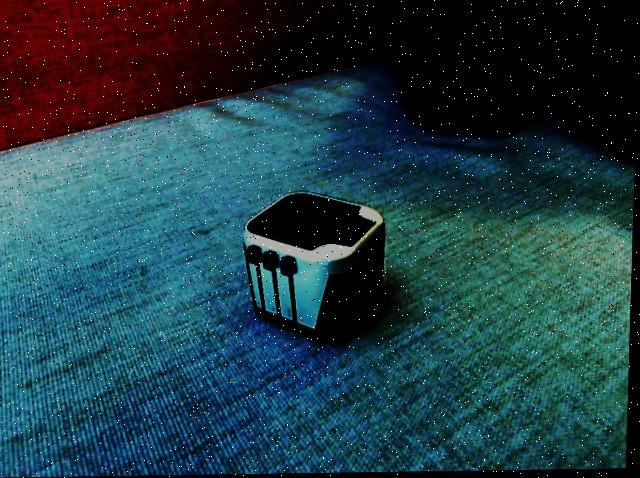adapter: (241, 191, 388, 345)
